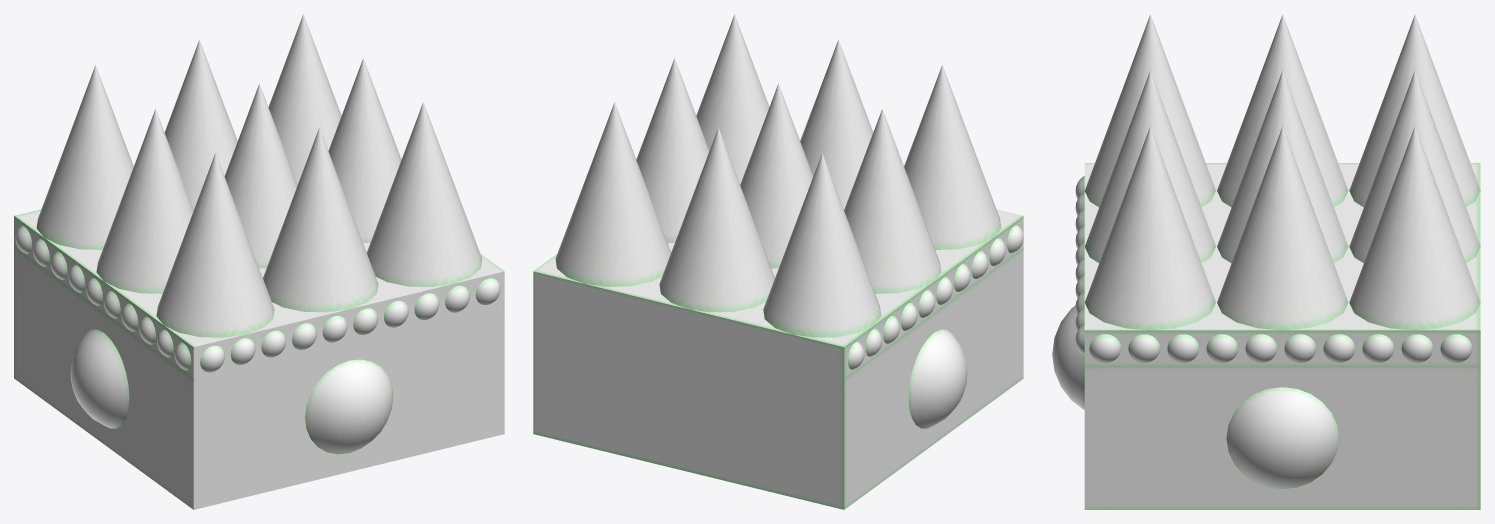
The model's file is pinchos.FBX.
3 views of the same model, side by side, from view 1: azimuth 30°, elevation 25°; view 2: azimuth 150°, elevation 25°; view 3: azimuth 270°, elevation 25° (orthographic). The views are drawn at different scales.
Parts seen in each view (by area): view 1: Box001; view 2: Box001; view 3: Box001.
Boxes of the visible parts, x1=… form: Box001: x1=14, y1=14, x2=504, y2=509; Box001: x1=533, y1=14, x2=1023, y2=509; Box001: x1=1052, y1=14, x2=1480, y2=509.
Size of the model in its own units: 116 by 99.26 by 108.
1 material, 1 textured.
